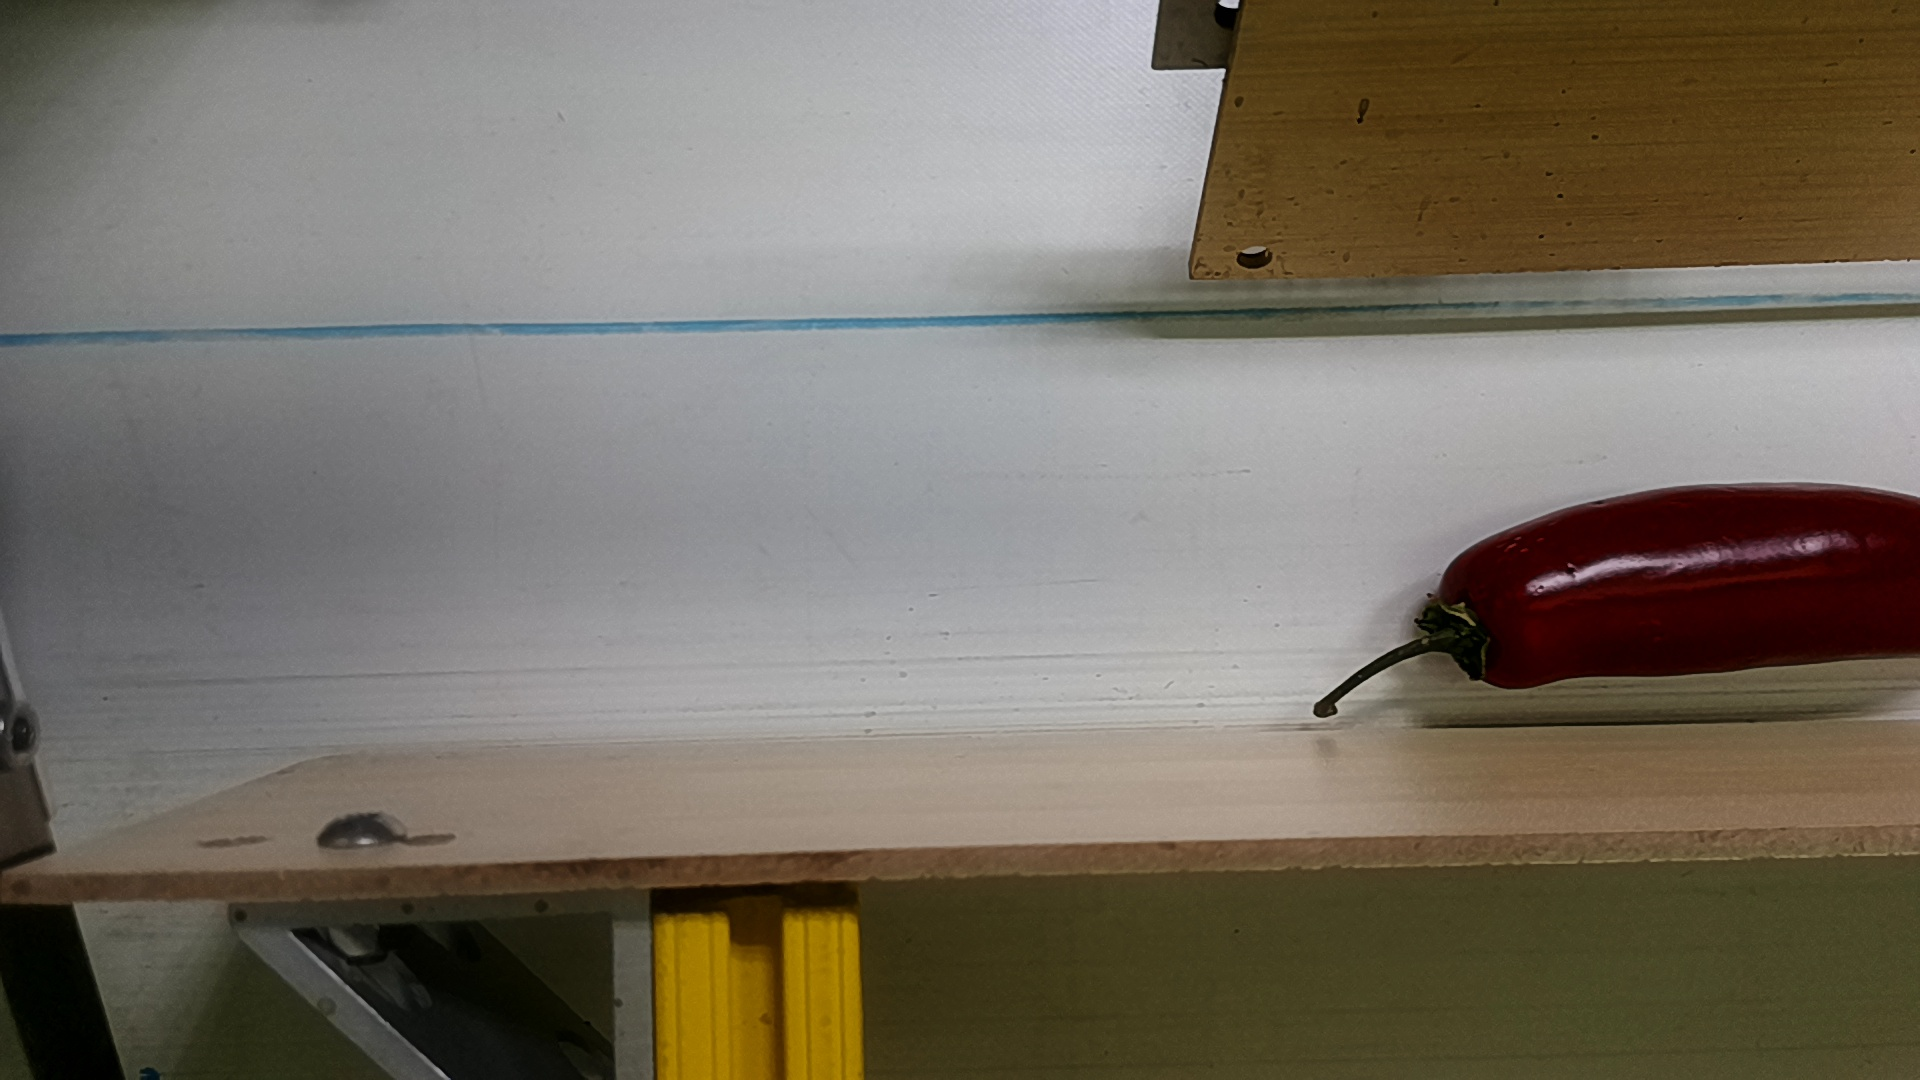Cut Point: (1424, 543, 1534, 694)
